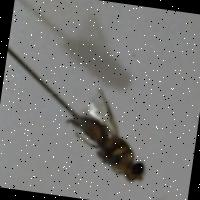Oriental-fruit-fly: (50, 75, 162, 190)
